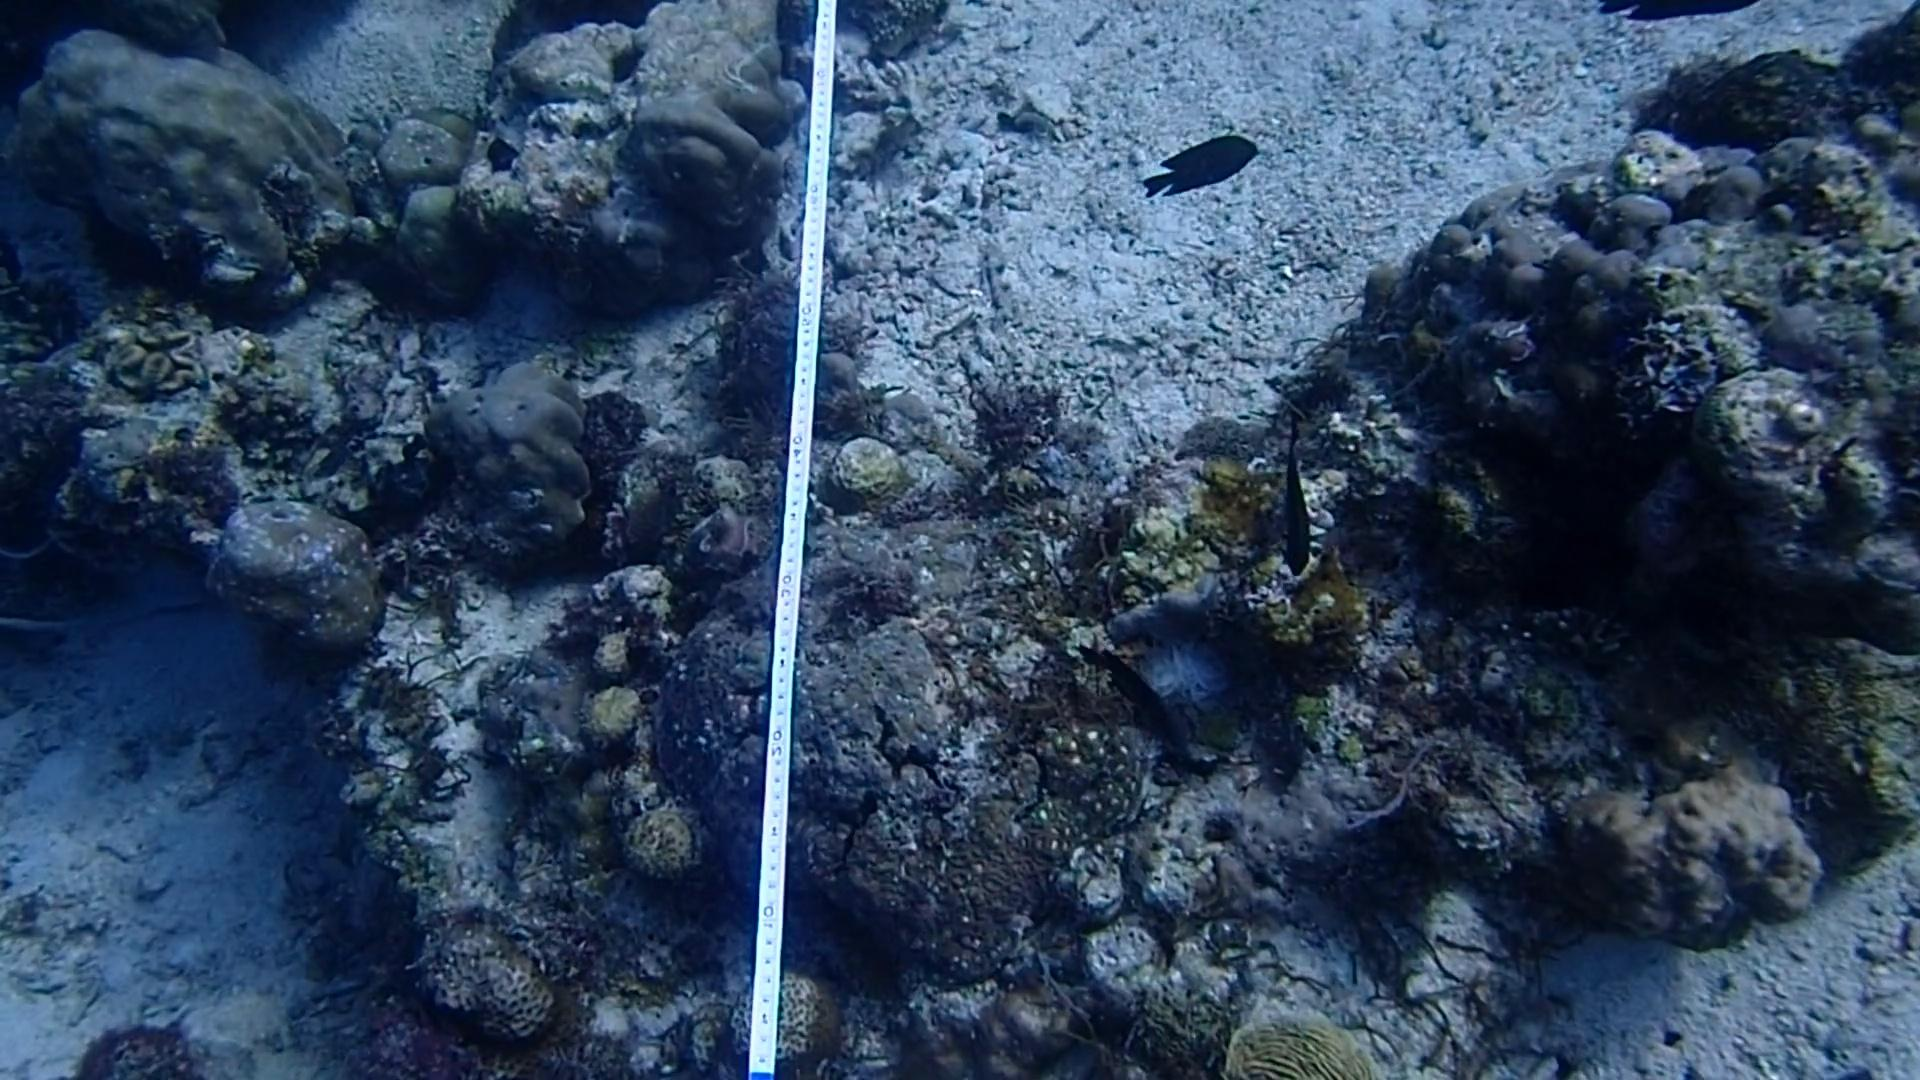Dark Fish: (1071, 629, 1193, 735), (1134, 120, 1274, 211), (1269, 414, 1333, 583), (1598, 0, 1768, 28)
